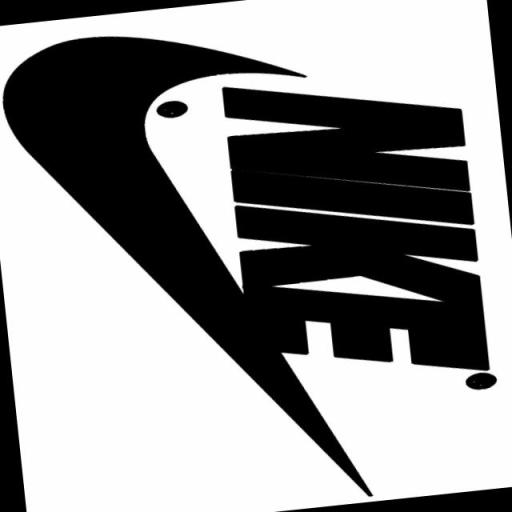Nike: (0, 23, 266, 423), (221, 66, 492, 395)
